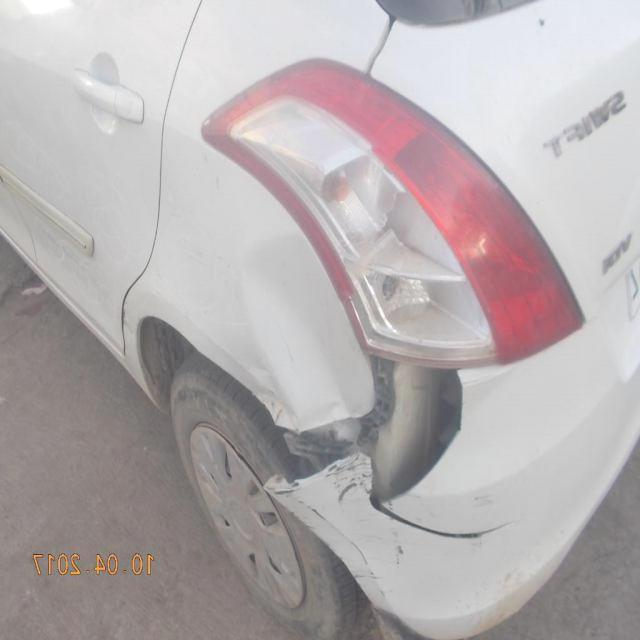minor: (379, 502, 506, 539), (337, 483, 361, 504), (384, 543, 401, 564)
moderate: (205, 62, 564, 366), (243, 231, 514, 507)
